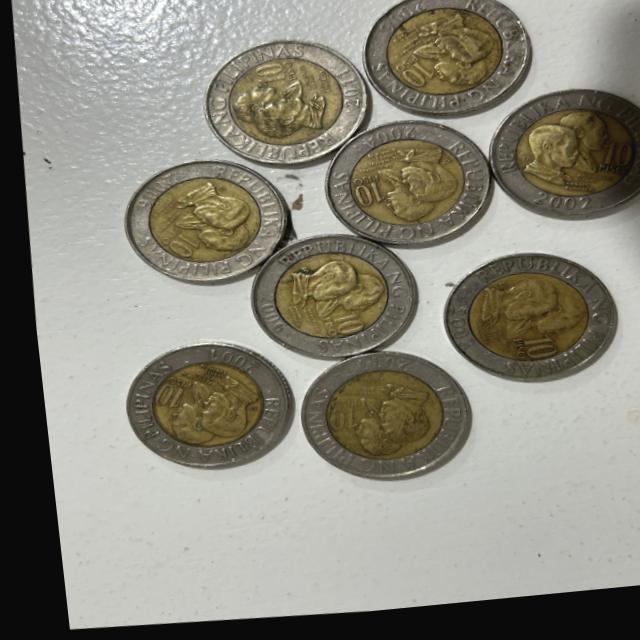10_Old_Front: (152, 226, 208, 272), (494, 339, 558, 374), (388, 60, 440, 100), (307, 311, 363, 345), (343, 176, 390, 216), (246, 60, 298, 96), (142, 374, 188, 414), (594, 149, 635, 191), (317, 398, 354, 442)
